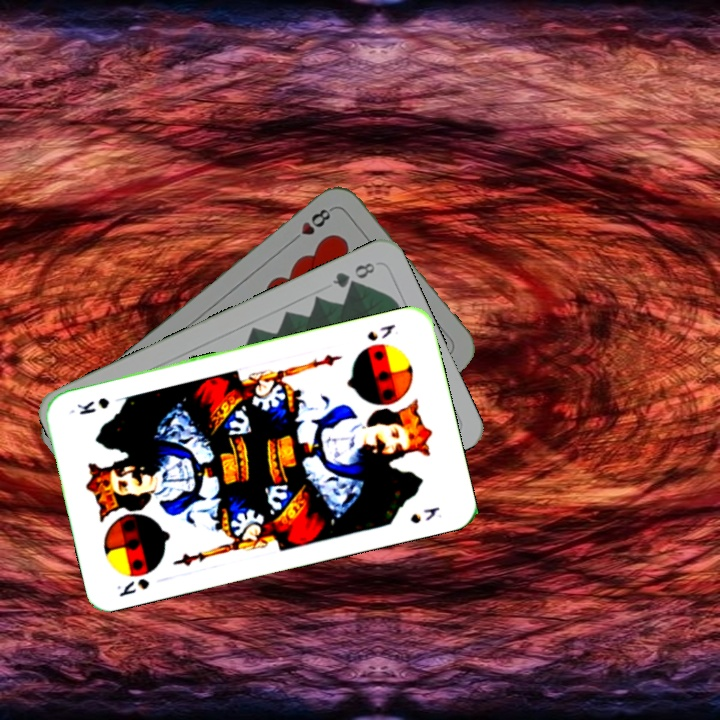G8: (328, 258, 378, 291)
H8: (286, 204, 336, 246)
SK: (113, 574, 152, 600), (363, 320, 398, 344)
